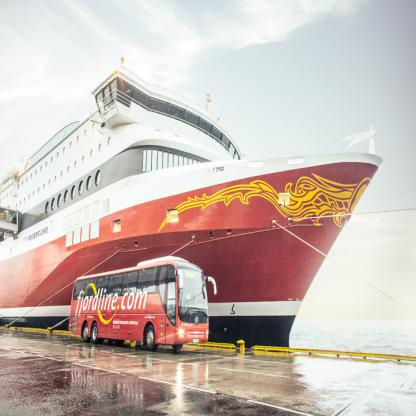Bus: (68, 254, 218, 352)
